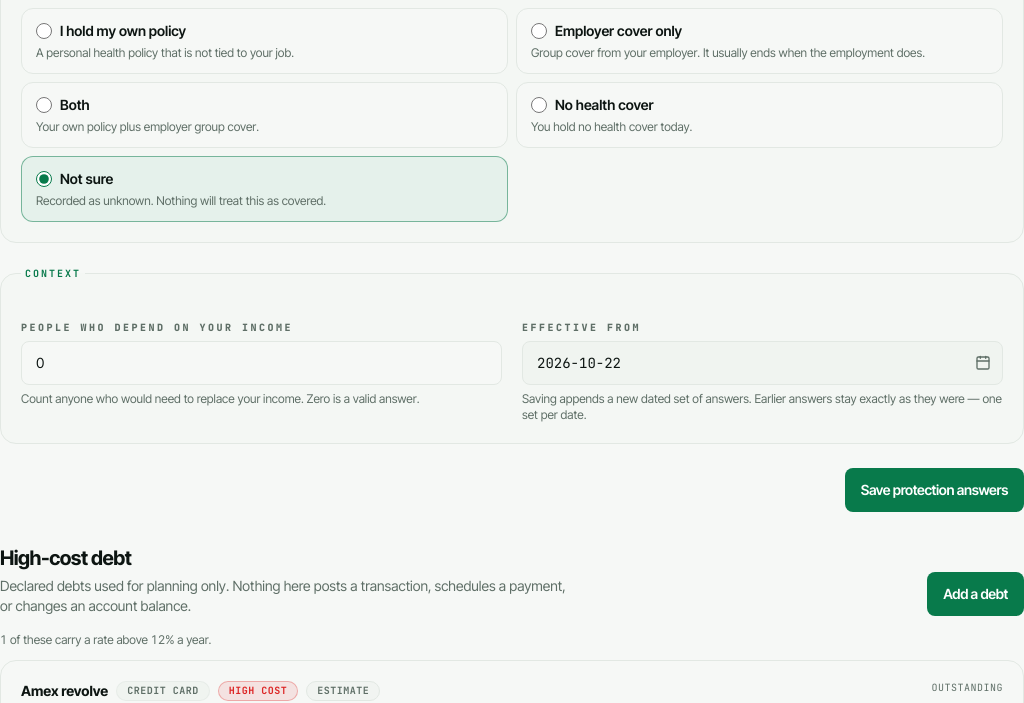
ProtectionDebtPanel interactions › opens the add-debt sheet from the section action
The width and height of the screenshot is (1024, 703).
(page scrolled)
Click the button "Add a debt" at (976, 594), box [927,572,1023,616]
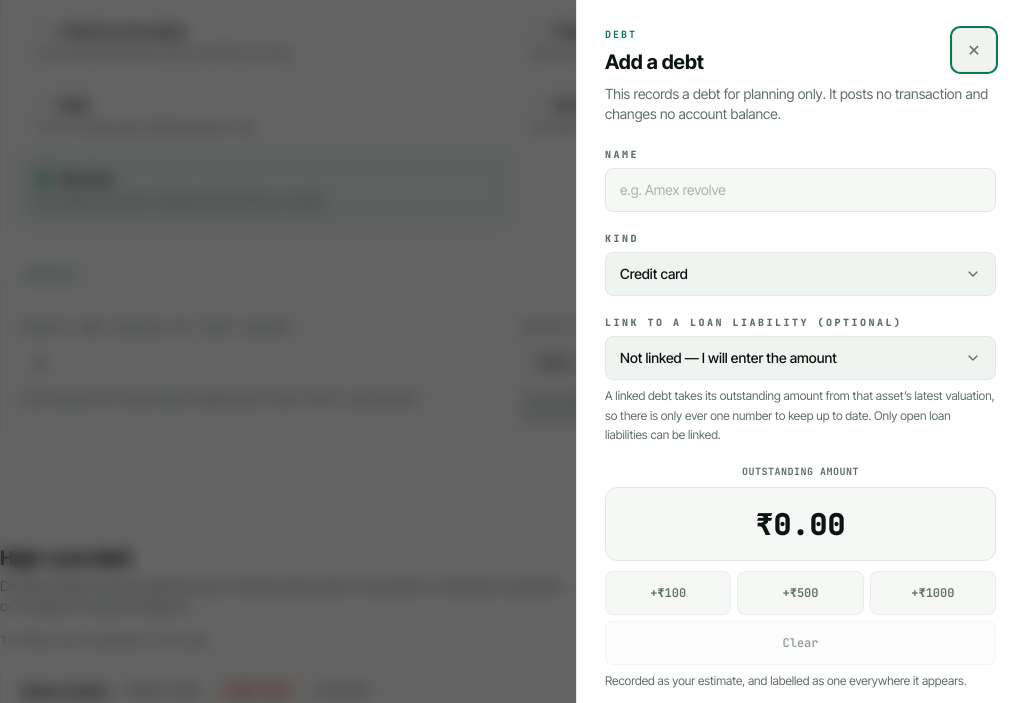
Expected: the heading "Add a debt" is shown, [605,48,704,76]
